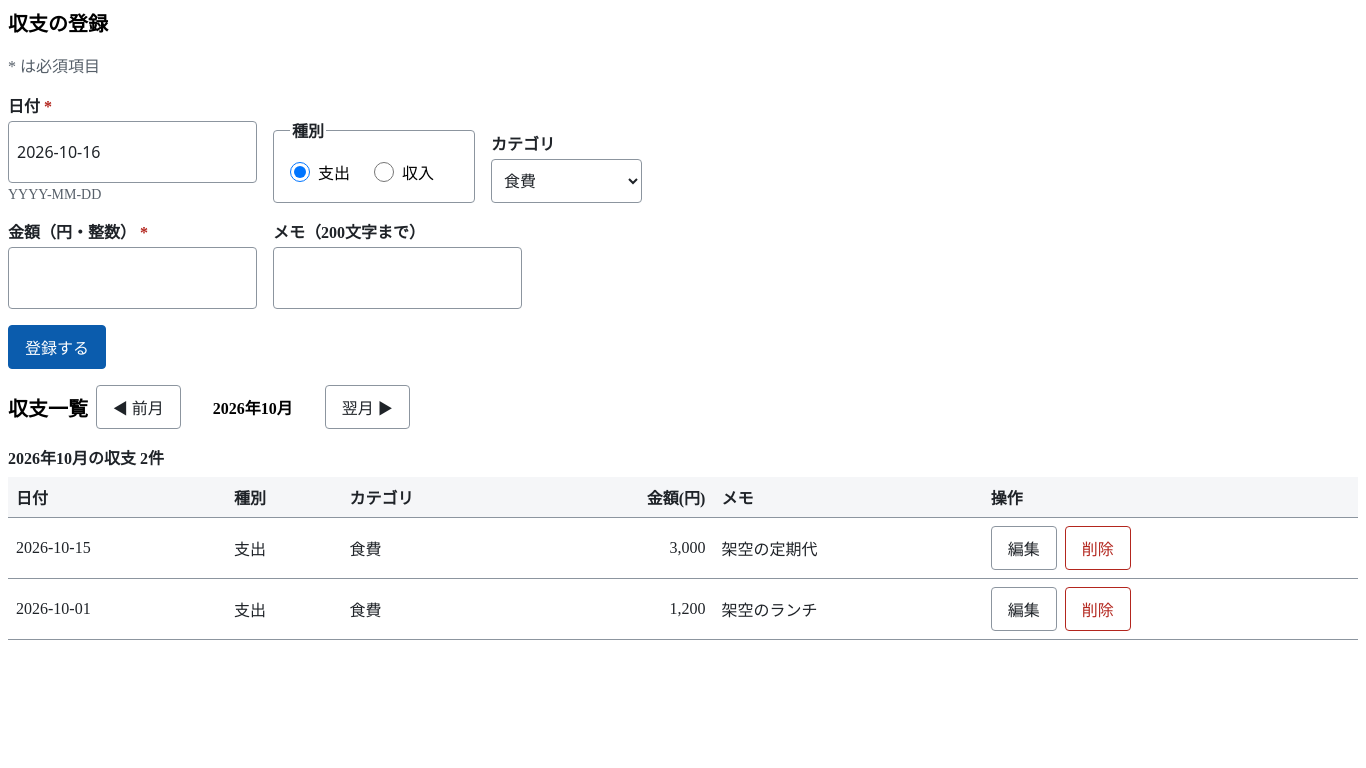
Test case: 収支タブ › 日付を別の月に変えて保存すると、移動先を知らせ、共有の対象月は変えない（BR2.4）
Click the button with aria-label "2026-10-01 食費 1,200円 を編集".
click(1024, 609)  # box [991,587,1057,631]
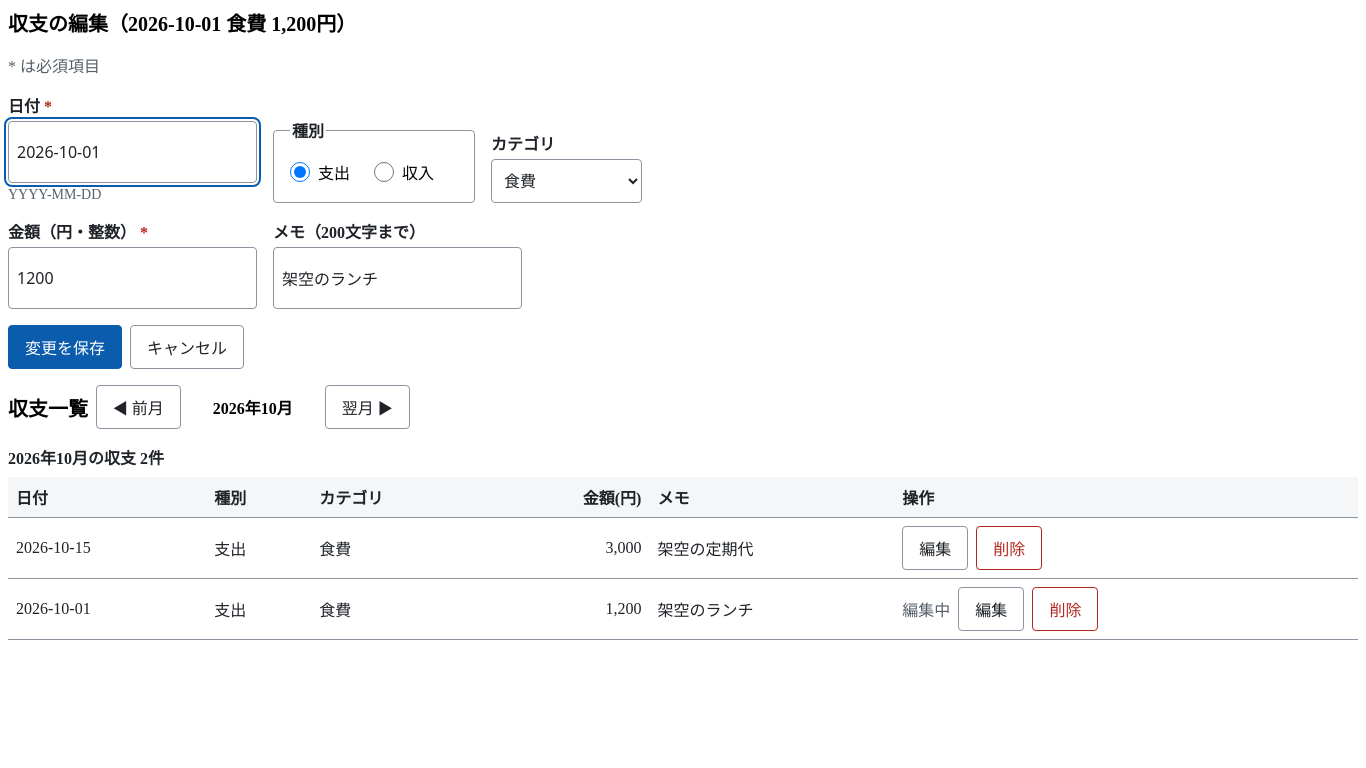
Replace the text in the field labelled "日付" with "2026-11-01" at (132, 152), box [8,121,257,183]
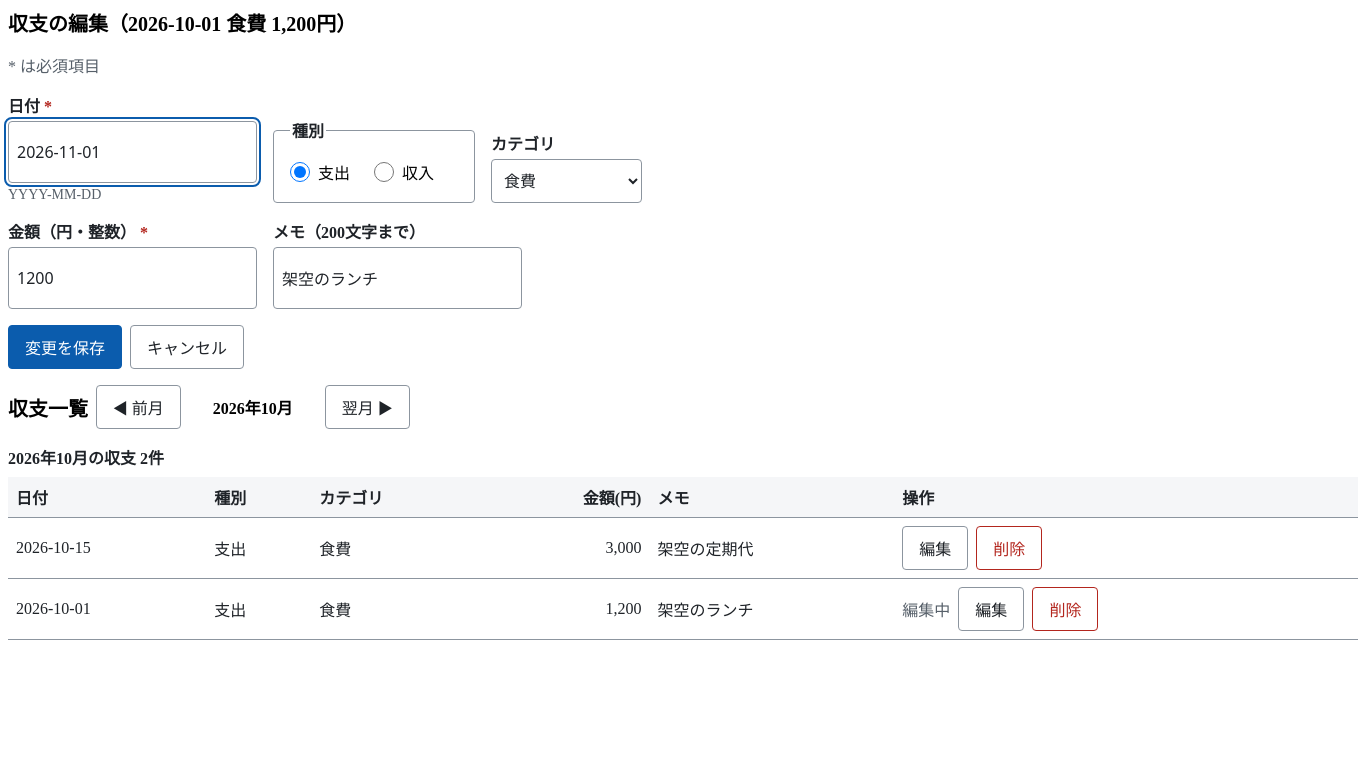
Click the button "変更を保存".
click(65, 347)  # box [8,325,122,369]
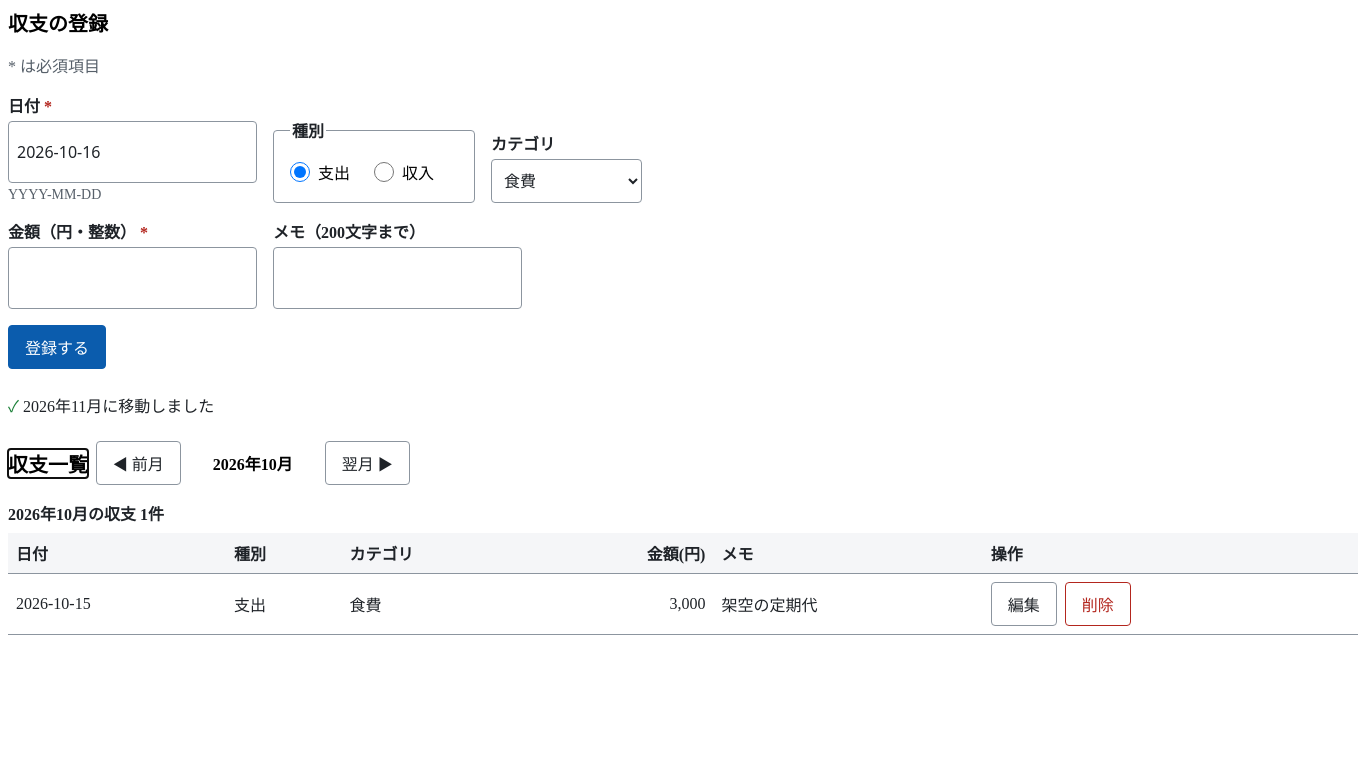
Now the text "2026年11月に移動しました" is shown, box [23,398,214,415]
Now the table "2026年10月の収支 1件" is shown, box [8,493,1358,635]
